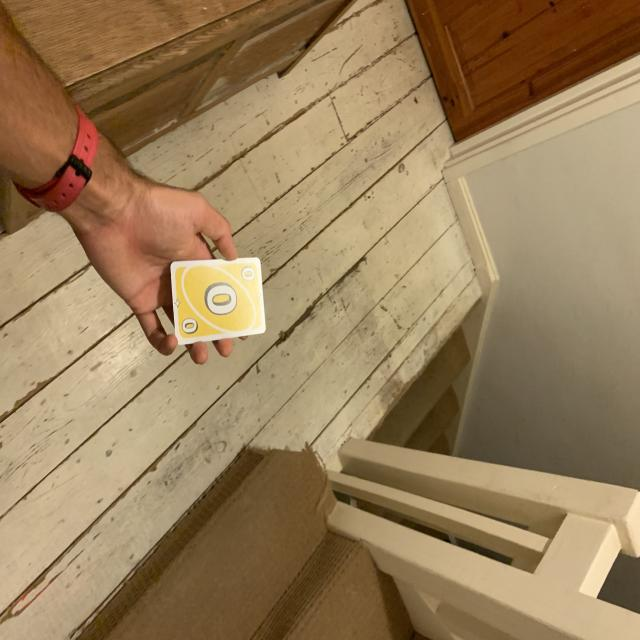lyellow-0: (236, 265, 256, 284)
